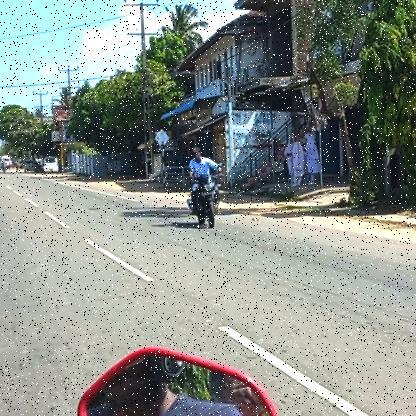motorcycle: (184, 172, 226, 230)
